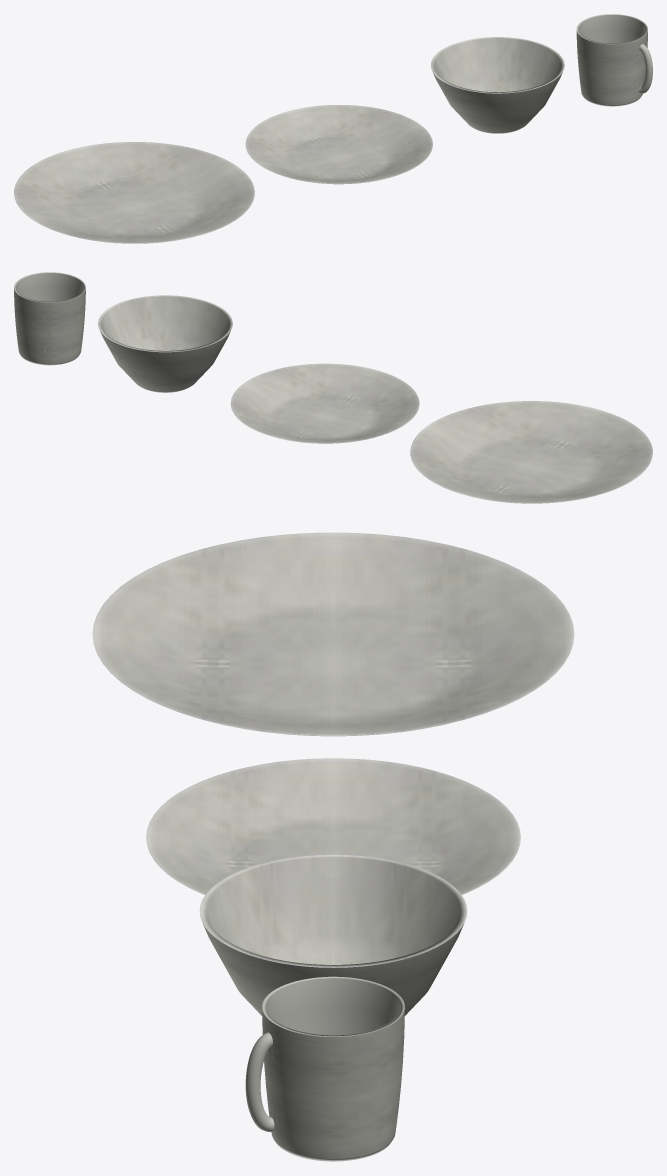
Rendered from EST-04.glb.
3 renders of one model, top to bottom at view 1: azimuth 30°, elevation 25°; view 2: azimuth 150°, elevation 25°; view 3: azimuth 270°, elevation 25°, orthographic. The views are drawn at different scales.
Bounding box in the file's own units: 0.7932 × 0.08 × 0.27.
Materials: 9 (7 with a texture image).
